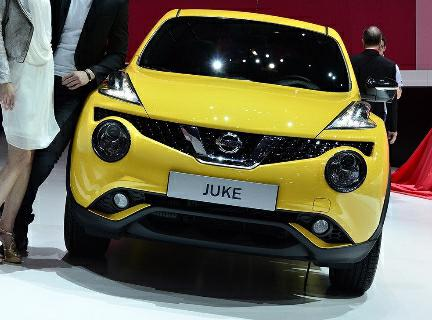日产-JUKE: (58, 8, 397, 306)
